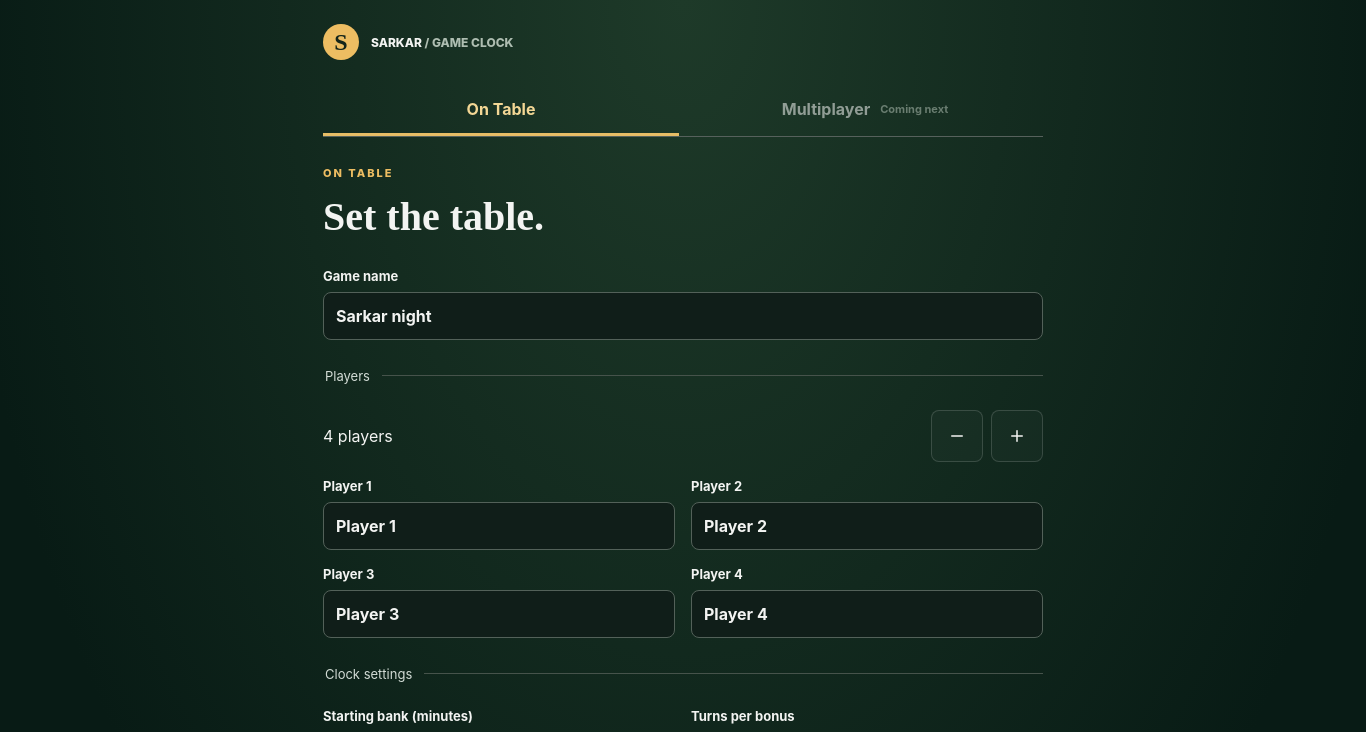
creates a configurable table with 2-8 players and sensible defaults
Click the button named "Remove player": click(957, 436) [931,410,983,462]
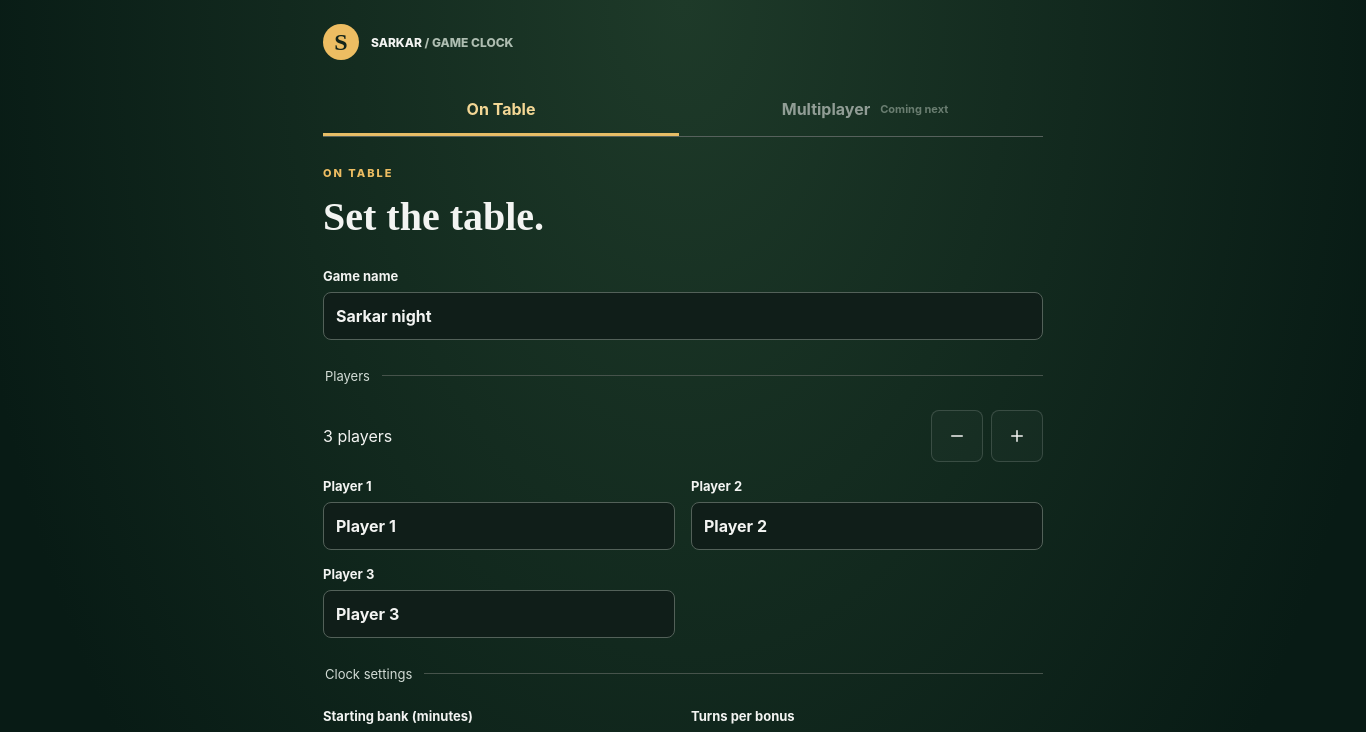
Click the button named "Remove player": click(957, 436) [931,410,983,462]
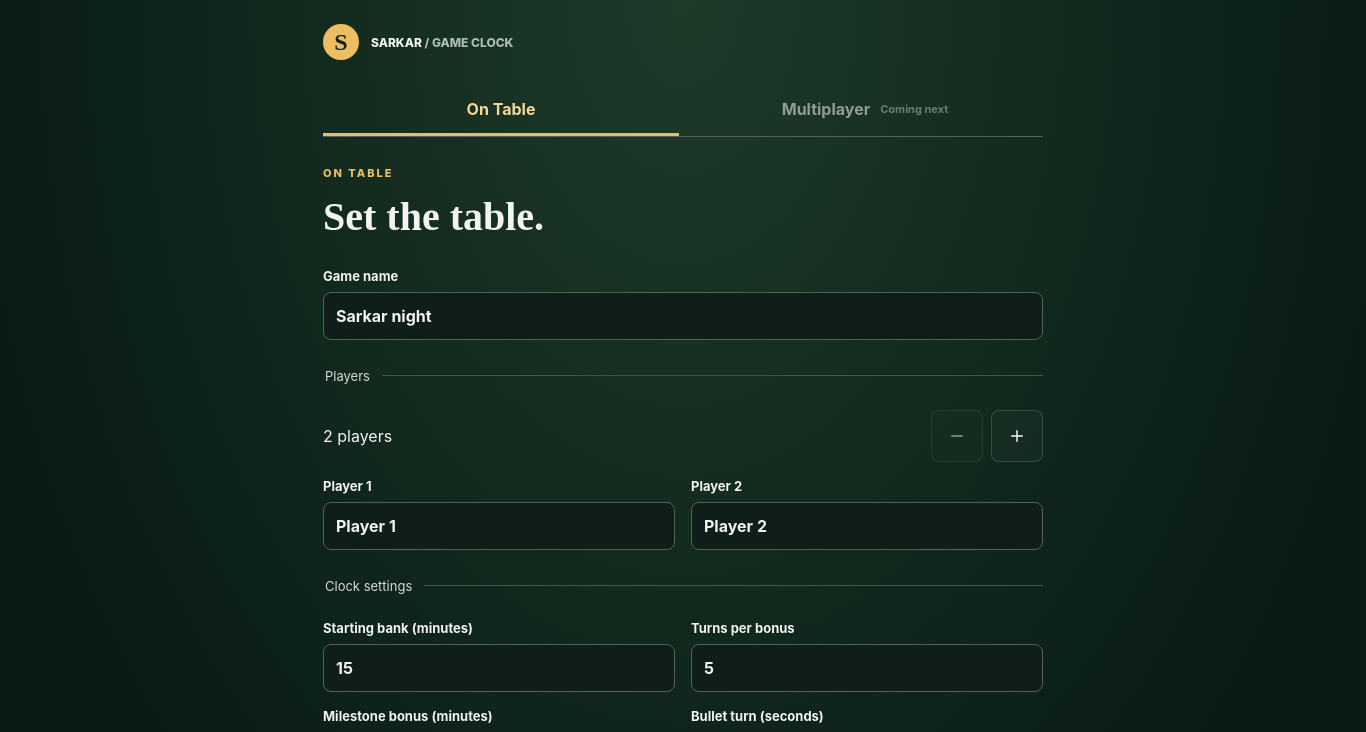
Replace the text in the field labelled "Player 1" with "Sridev": (499, 526) [323,502,675,550]
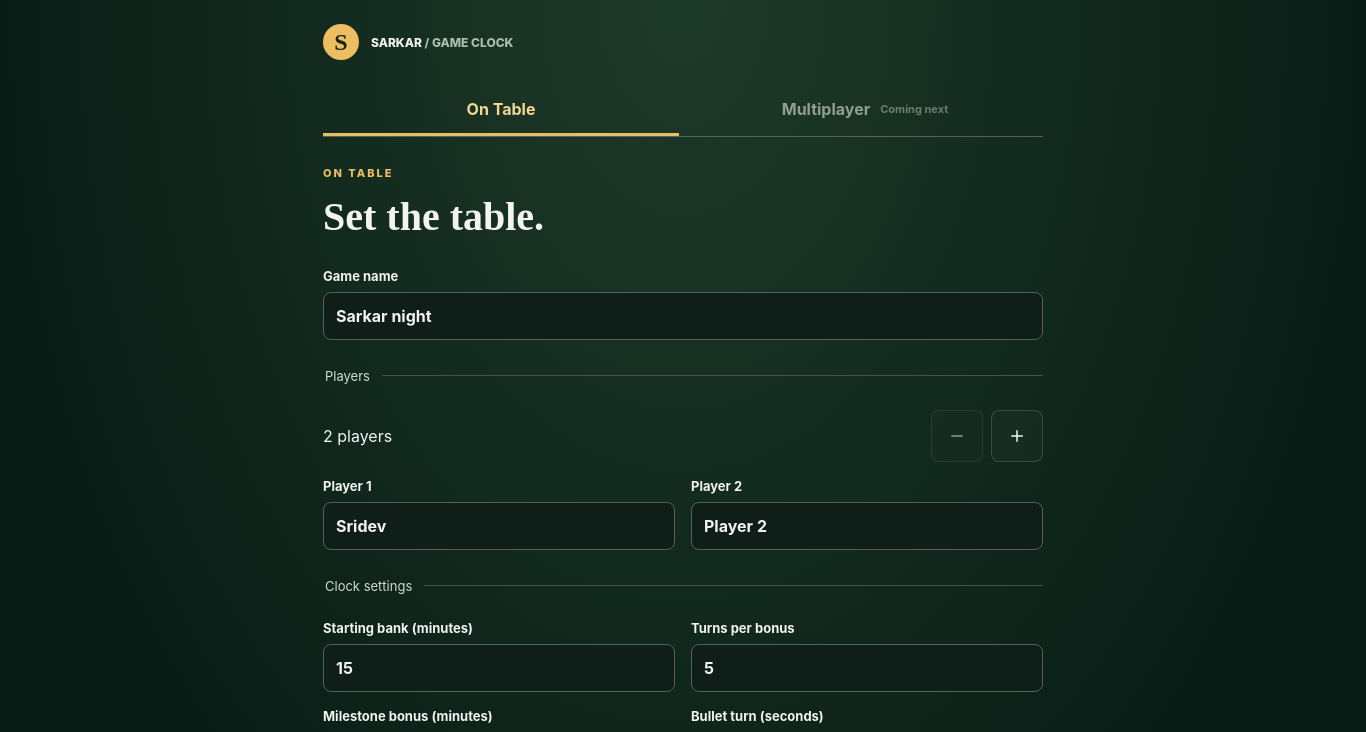
Replace the text in the number field labelled "Turns per bonus" with "3": (867, 668) [691,644,1043,692]
(page scrolled)
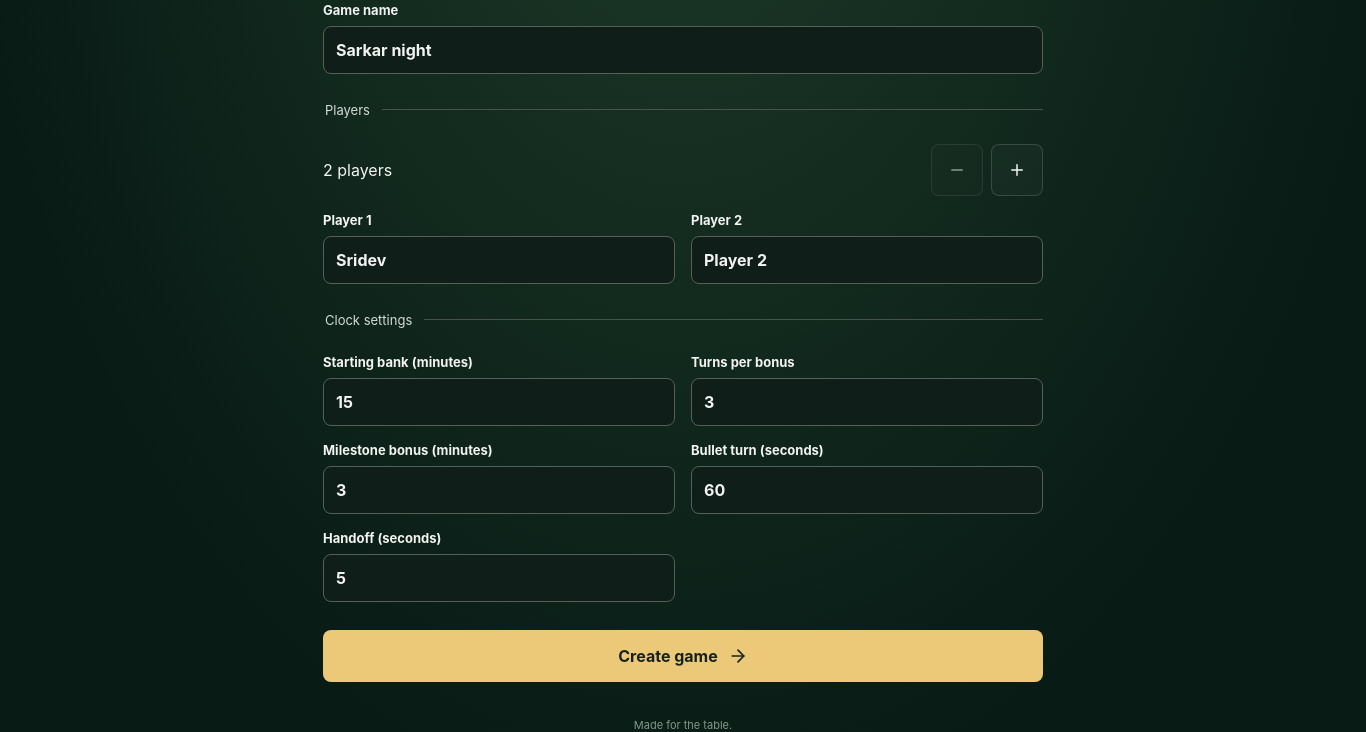
Click the button "Create game": click(683, 656) [323,630,1043,682]
(page scrolled)
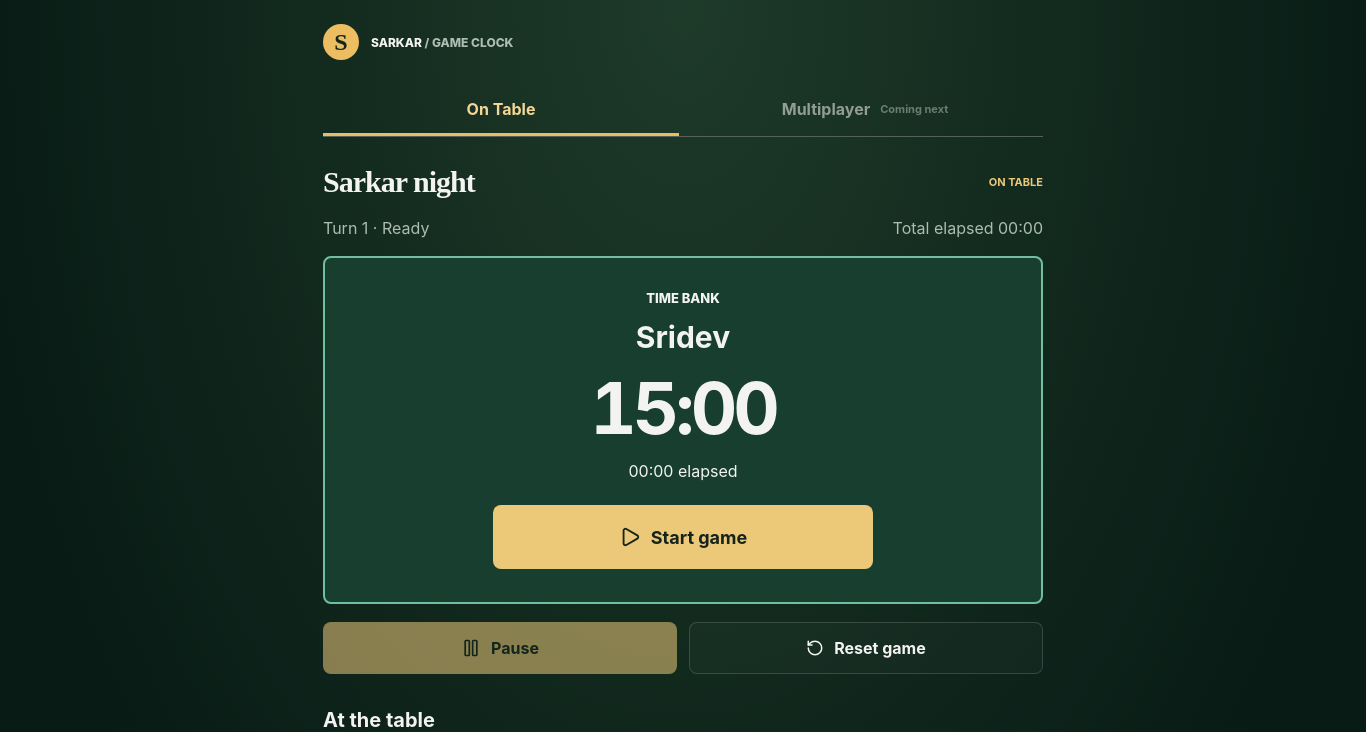
Expected: the button "Multiplayer Coming next" is disabled, [687,84,1043,136]
Result: the element named "Active clock" shows "Sridev" at [636,319,730,355]
